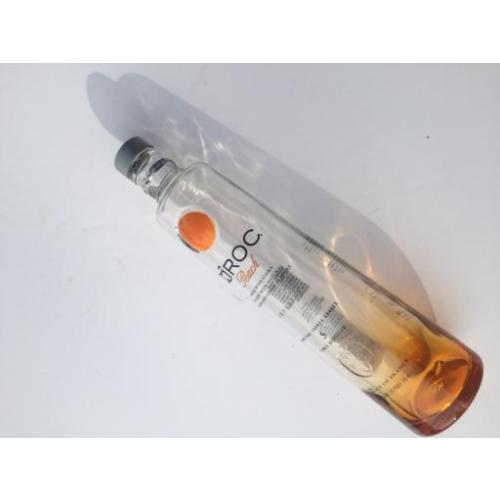glass: (122, 136, 482, 435)
